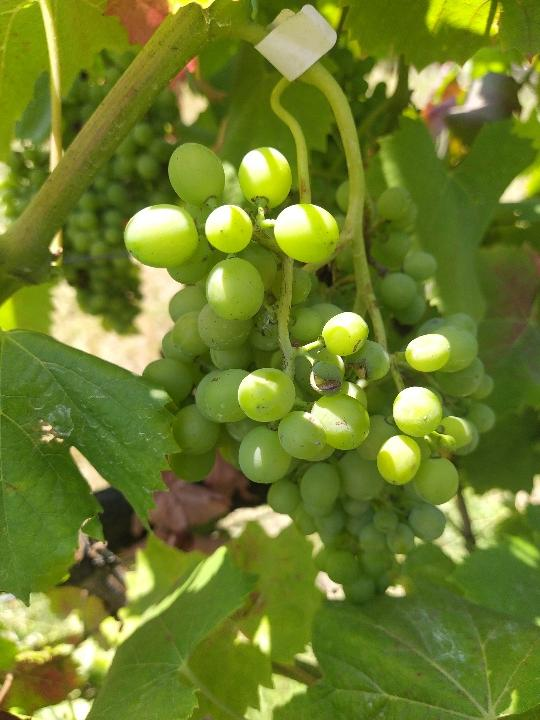grape: (119, 138, 498, 606)
